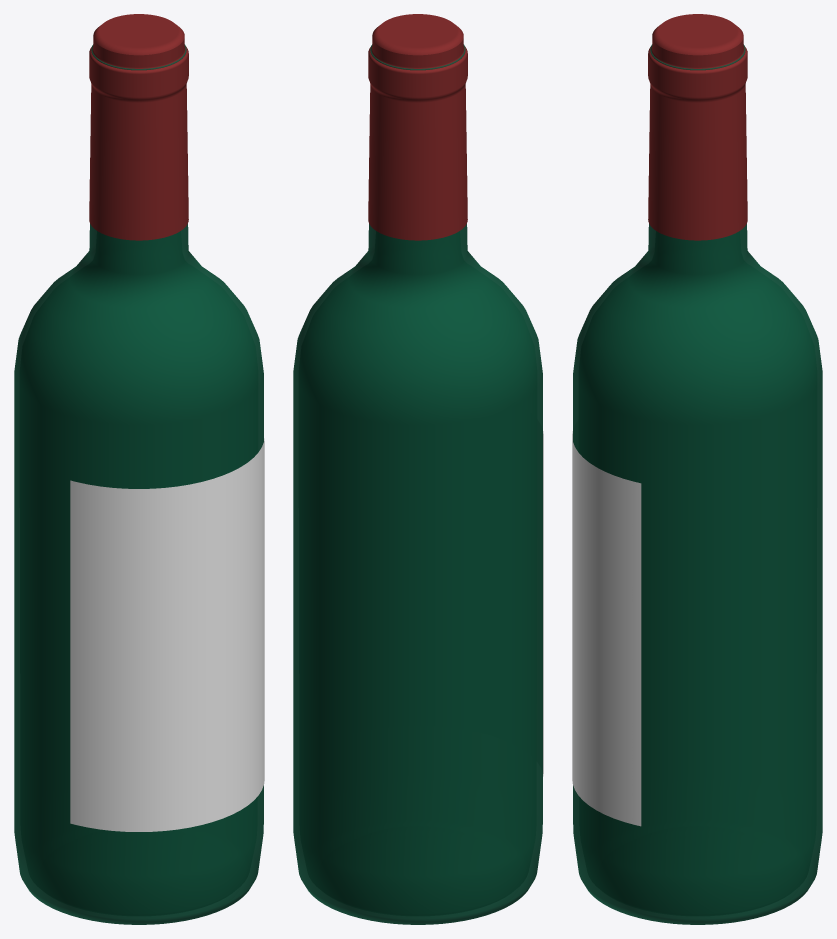
3 renders of one model, left to right at view 1: azimuth 30°, elevation 25°; view 2: azimuth 150°, elevation 25°; view 3: azimuth 270°, elevation 25°, orthographic.
Parts seen in each view (by area): view 1: Material_0, label, Material_2; view 2: Material_0, Material_2; view 3: Material_0, label, Material_2.
Part boxes in pixels (x1,y1,x2,y2): Material_0: (14, 44, 263, 924); label: (70, 438, 264, 831); Material_2: (89, 14, 188, 240); Material_0: (293, 44, 542, 924); Material_2: (368, 14, 467, 240); Material_0: (573, 44, 822, 924); label: (572, 431, 641, 826); Material_2: (648, 14, 747, 240).
Size of the model in its own units: 72.53 by 273 by 72.81.
